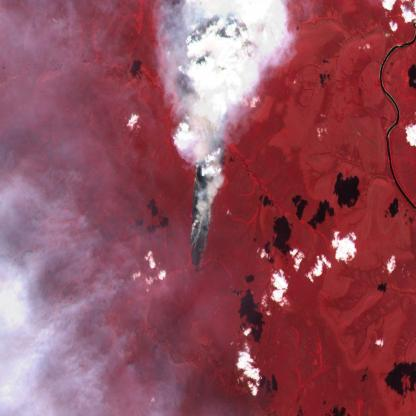fire: (185, 128, 222, 270)
